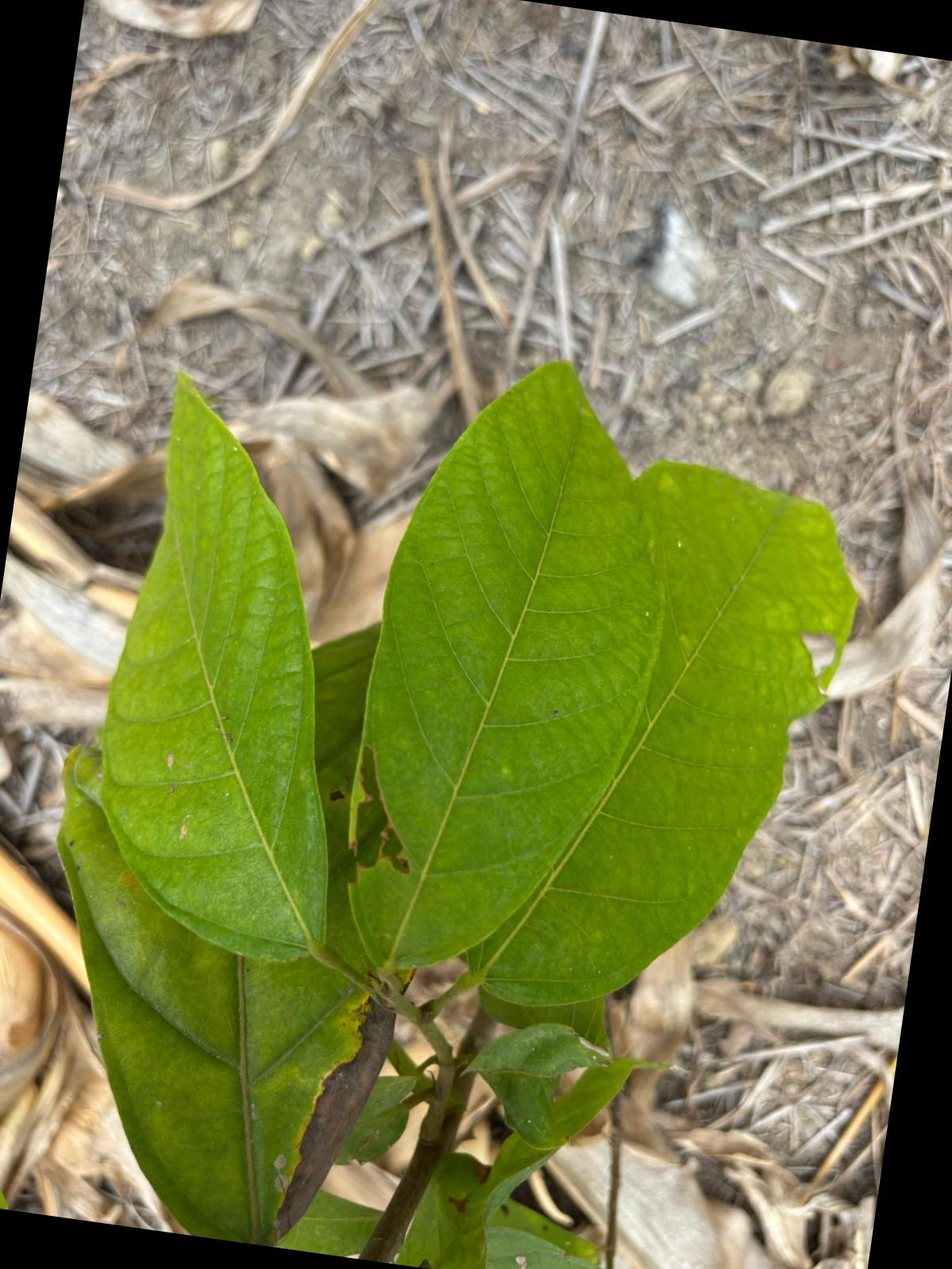Nitrogeno: (353, 364, 661, 968), (102, 378, 327, 960)
